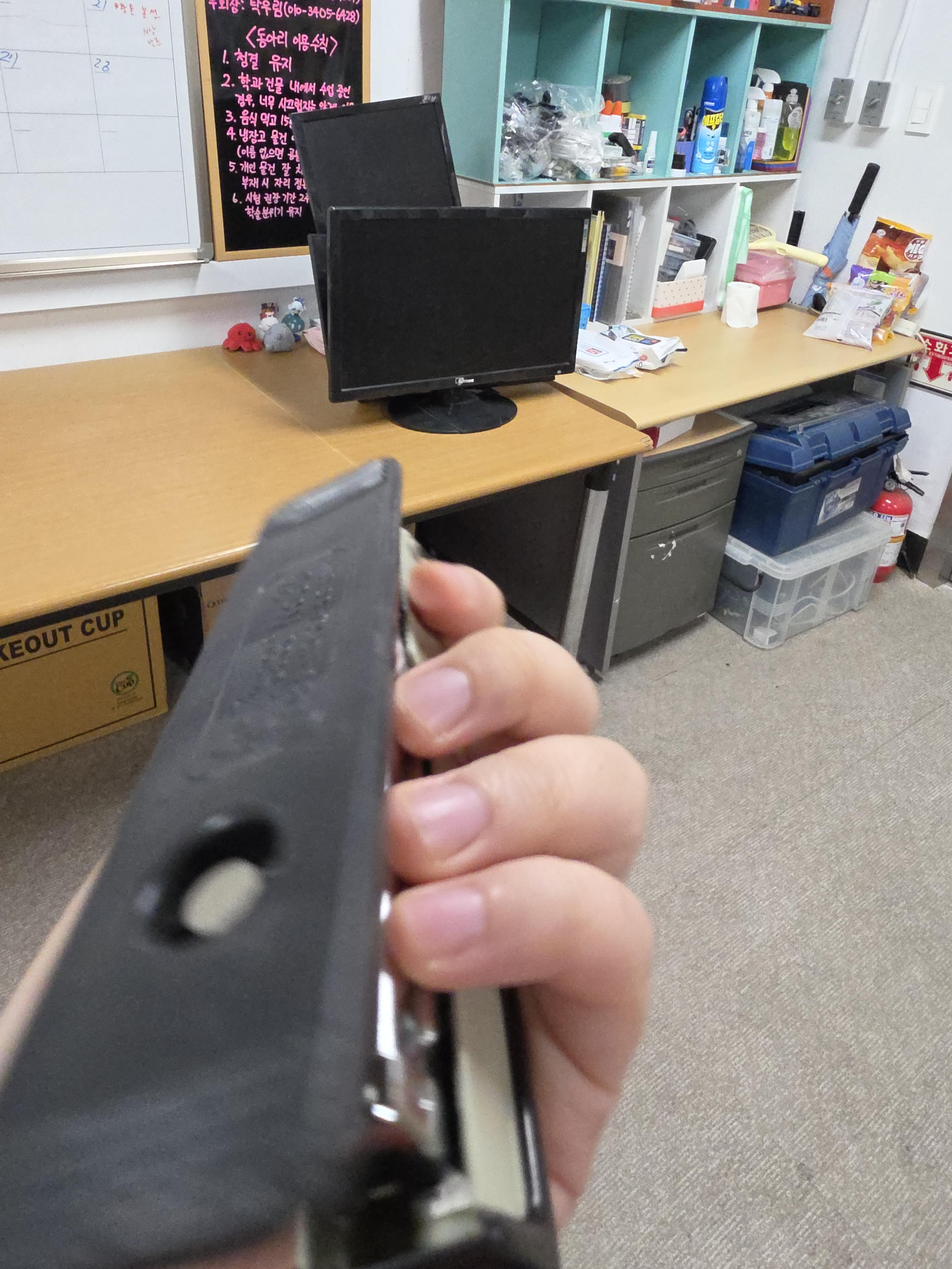stapler: (0, 456, 565, 1268)
tissue: (651, 258, 708, 318), (723, 281, 760, 329)
